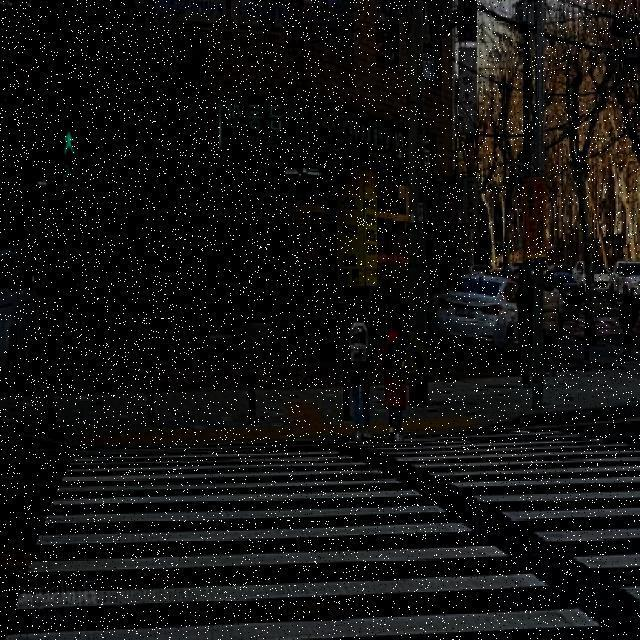Pedestrian crosswalk: (2, 426, 640, 638)
